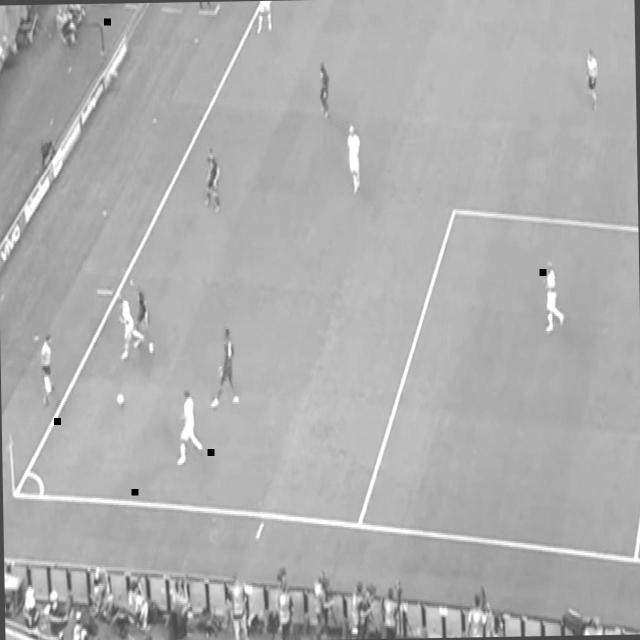ball: (115, 390, 125, 408)
player-white: (207, 325, 241, 413), (175, 384, 204, 470), (116, 290, 146, 362), (541, 258, 566, 337), (130, 284, 156, 358), (200, 144, 222, 218), (344, 123, 363, 199), (39, 331, 56, 412), (582, 46, 600, 112), (316, 59, 332, 123), (253, 1, 273, 37)
